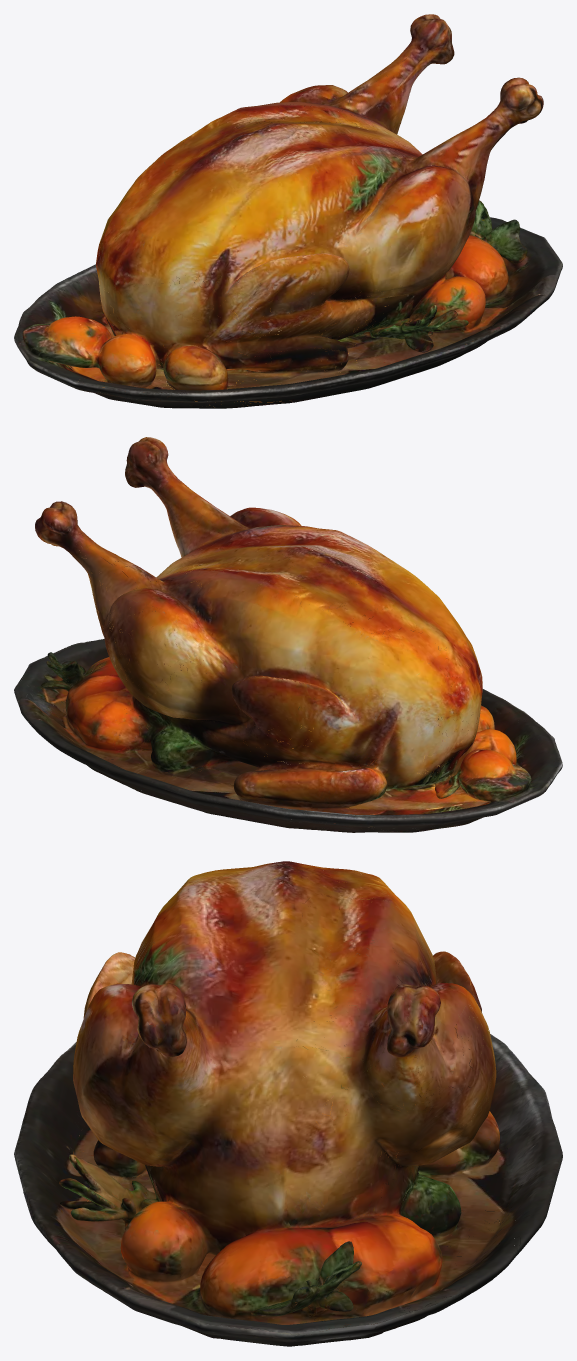
Rendered from roasted-chicken-ar.original.glb.
The picture shows the model from 3 angles, top to bottom: view 1: azimuth 30°, elevation 25°; view 2: azimuth 150°, elevation 25°; view 3: azimuth 270°, elevation 25°; orthographic projection. The views are drawn at different scales.
Visible parts, largest first — view 1: Mesh1_Mesh1.067; view 2: Mesh1_Mesh1.067; view 3: Mesh1_Mesh1.067.
Part boxes in pixels (x1,y1,x2,y2): Mesh1_Mesh1.067: [14, 14, 562, 408]; Mesh1_Mesh1.067: [14, 437, 562, 832]; Mesh1_Mesh1.067: [14, 861, 562, 1346].
Bounding box in the file's own units: 2 × 0.8791 × 1.29.
1 material, 1 textured.
